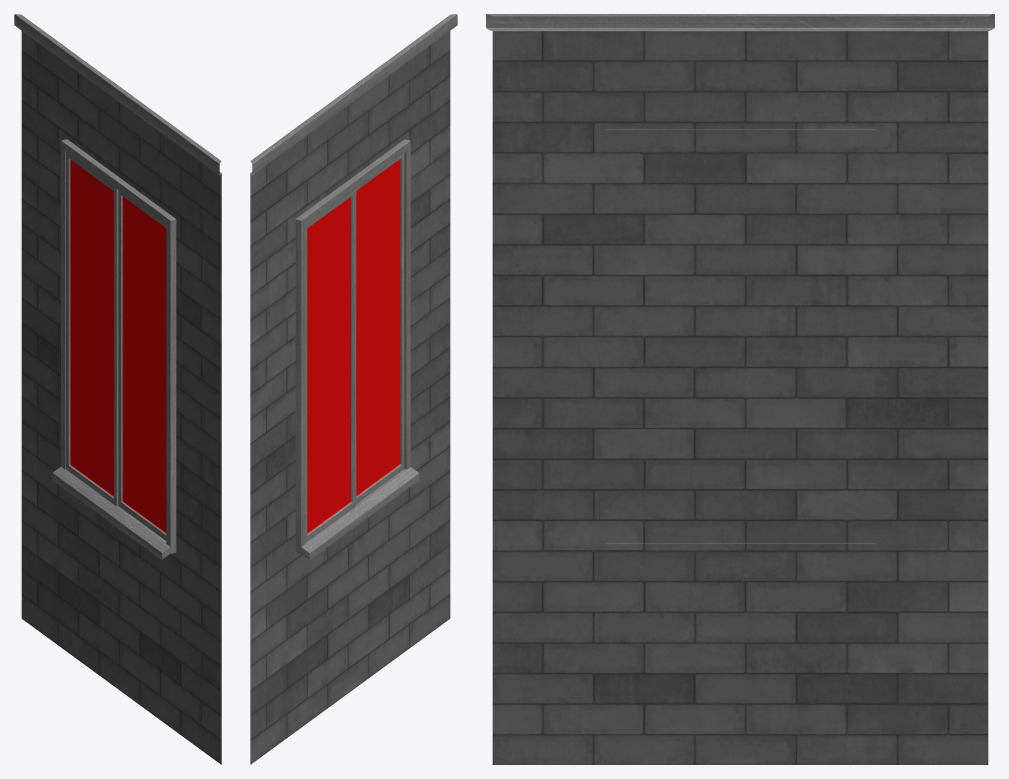
File: SM_Mid_150_Window_02.fbx
3 renders of one model, left to right at view 1: azimuth 30°, elevation 25°; view 2: azimuth 150°, elevation 25°; view 3: azimuth 270°, elevation 25°, orthographic. The views are drawn at different scales.
Visible parts, largest first — view 1: SM_Mid_150_Window_02_LOD0; view 2: SM_Mid_150_Window_02_LOD0; view 3: SM_Mid_150_Window_02_LOD0.
Boxes of the visible parts, box(x1,y1,x2,y2) form: SM_Mid_150_Window_02_LOD0: box(14, 14, 221, 764); SM_Mid_150_Window_02_LOD0: box(250, 14, 457, 764); SM_Mid_150_Window_02_LOD0: box(486, 14, 994, 764).
Bounding box in the file's own units: 6.44 × 154 × 250.
